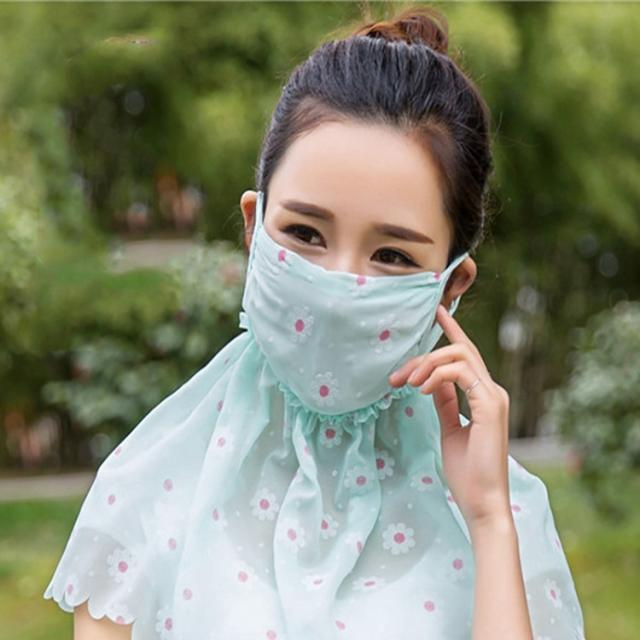mask: (251, 118, 449, 406)
